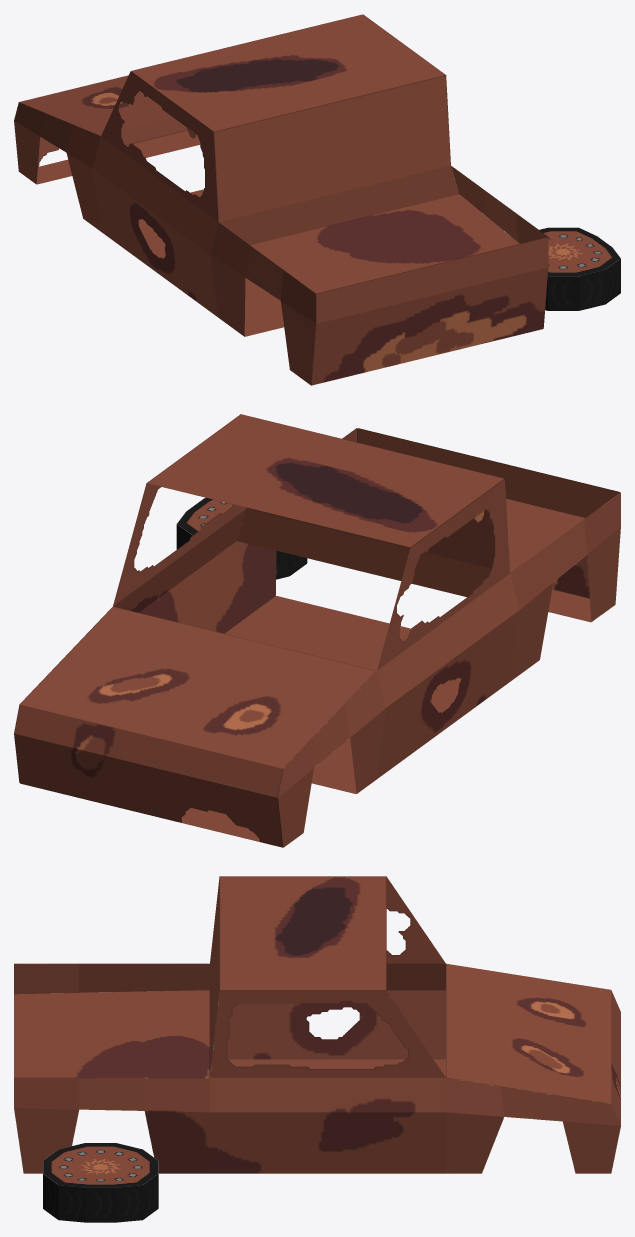
The model's file is RustedCar.fbx.
3 renders of one model, top to bottom at view 1: azimuth 30°, elevation 25°; view 2: azimuth 150°, elevation 25°; view 3: azimuth 270°, elevation 25°, orthographic. The views are drawn at different scales.
Visible parts, largest first — view 1: mesh, cylinder; view 2: mesh, cylinder; view 3: mesh, cylinder.
Part boxes in pixels (x1,y1,x2,y2): mesh: (14, 14, 548, 385); cylinder: (539, 227, 620, 310); mesh: (14, 414, 620, 847); cylinder: (176, 498, 307, 579); mesh: (14, 876, 620, 1173); cylinder: (43, 1143, 158, 1222).
Size of the model in its own units: 256 by 131 by 394.
Materials: 1 (1 with a texture image).
